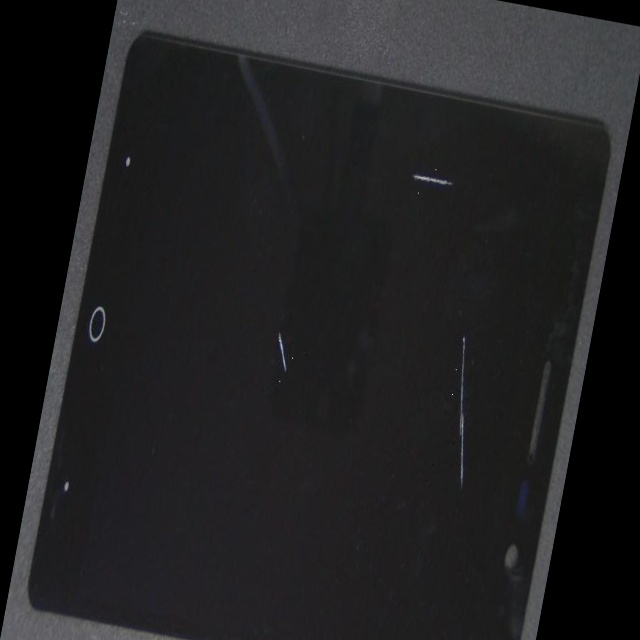scratch: (195, 219, 602, 640), (164, 200, 438, 577), (224, 71, 579, 348)
